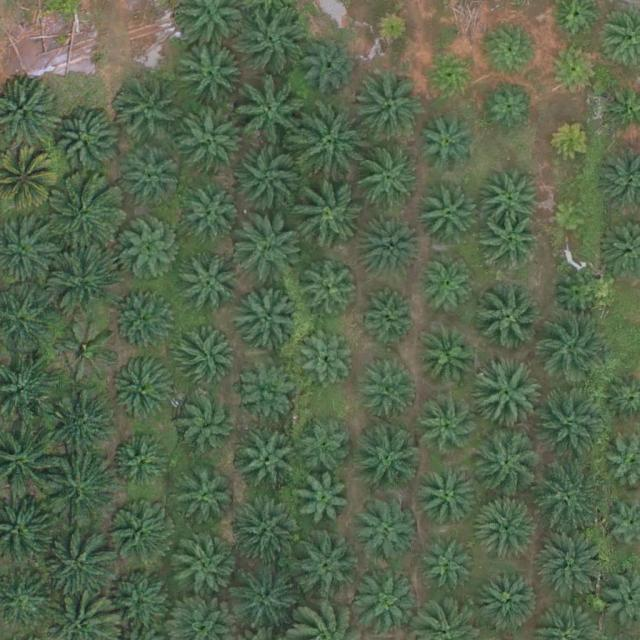Healthy: (474, 282, 545, 353), (47, 247, 118, 318), (294, 111, 365, 182), (235, 79, 306, 150), (49, 107, 120, 178), (539, 390, 609, 461), (292, 179, 362, 250), (290, 532, 360, 603), (234, 144, 304, 215), (233, 218, 303, 289), (45, 456, 115, 527), (50, 177, 120, 248), (355, 71, 425, 142), (239, 6, 309, 77), (541, 314, 611, 384), (533, 464, 603, 534), (538, 534, 608, 604), (470, 362, 540, 432), (472, 429, 542, 499), (230, 500, 300, 570), (230, 563, 300, 633), (43, 528, 113, 598), (45, 385, 115, 455), (178, 100, 248, 170), (112, 77, 182, 147), (419, 398, 482, 461), (359, 148, 422, 211), (357, 356, 420, 419), (237, 290, 300, 353), (114, 288, 177, 351), (112, 361, 175, 424), (112, 565, 175, 628), (480, 167, 542, 230), (479, 570, 541, 633), (414, 113, 476, 176), (418, 185, 480, 248), (418, 325, 480, 388), (417, 468, 479, 531), (357, 219, 419, 282), (357, 430, 419, 493), (355, 498, 417, 561), (300, 256, 362, 319), (240, 433, 302, 496), (178, 254, 240, 317), (173, 329, 235, 392), (176, 391, 238, 454), (174, 536, 236, 599), (116, 222, 178, 285), (112, 502, 174, 565), (181, 46, 243, 109), (478, 497, 540, 559), (358, 575, 420, 637), (235, 360, 297, 422), (420, 261, 475, 317), (424, 539, 479, 595), (553, 270, 608, 325), (486, 217, 541, 272), (361, 289, 416, 344), (298, 331, 353, 386), (298, 419, 353, 474), (185, 188, 240, 243), (178, 471, 233, 526), (124, 154, 179, 209), (114, 439, 169, 494), (485, 22, 540, 77), (485, 79, 540, 134), (546, 42, 601, 97), (306, 38, 361, 93), (297, 474, 351, 529), (423, 48, 477, 103)
Yellow: (57, 320, 120, 382), (549, 118, 596, 165), (552, 198, 591, 238), (371, 11, 410, 50)
